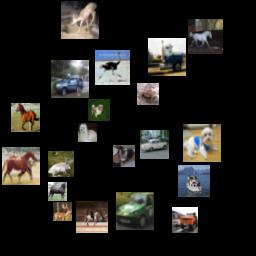automobile: (116, 192, 154, 230), (51, 60, 89, 98), (140, 130, 169, 159)
bird: (95, 50, 130, 85)
cat: (113, 145, 135, 167)
deer: (61, 1, 99, 39), (48, 151, 74, 177), (53, 202, 72, 221)
dog: (183, 124, 221, 162), (88, 99, 110, 121), (78, 123, 97, 142)
frog: (137, 83, 159, 105)
ship: (178, 165, 210, 197)
truck: (148, 38, 186, 76), (172, 207, 198, 233)
